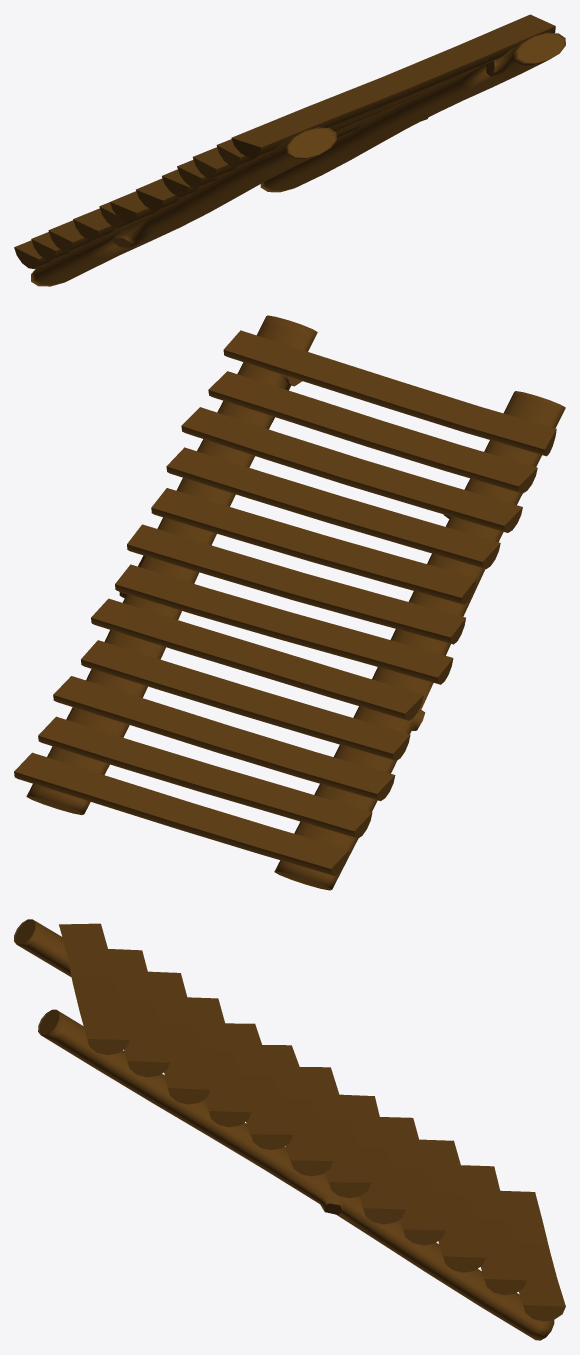
Rendered from stairs big.glb.
The picture shows the model from 3 angles, top to bottom: view 1: azimuth 30°, elevation 25°; view 2: azimuth 150°, elevation 25°; view 3: azimuth 270°, elevation 25°; orthographic projection. The views are drawn at different scales.
Visible parts, largest first — view 1: LogStaris_01_GEO; view 2: LogStaris_01_GEO; view 3: LogStaris_01_GEO.
Boxes of the visible parts, x1,y1,x2,y2 form: LogStaris_01_GEO: [14, 14, 565, 286]; LogStaris_01_GEO: [14, 315, 565, 890]; LogStaris_01_GEO: [14, 919, 565, 1340].
Size of the model in its own units: 39.05 by 40.46 by 57.56.
